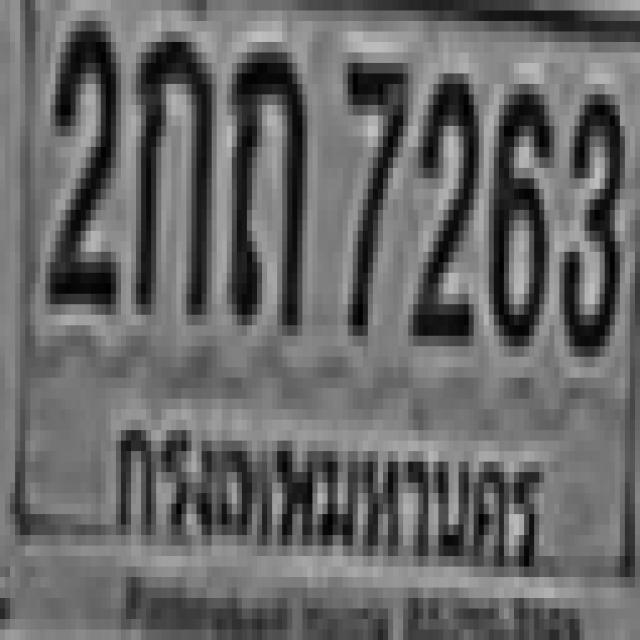10GorGai: (131, 21, 207, 304)
2: (45, 16, 116, 299), (408, 63, 474, 336)
3: (559, 84, 620, 346)
31ThorThung: (227, 37, 302, 320)
6: (484, 73, 549, 336)
7: (343, 52, 403, 326)
Bangkok: (99, 399, 546, 587)
